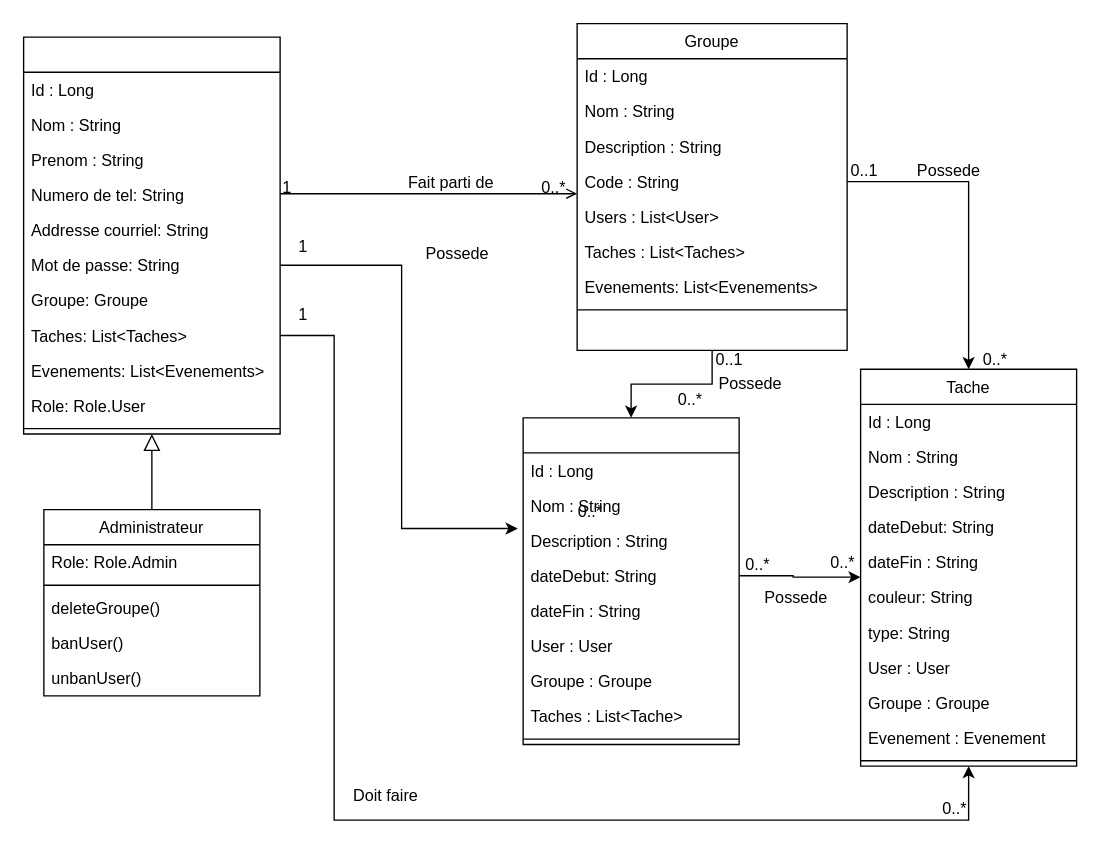
This 1100x855 diagram has some shape labels left out. The shapes that lost their labels are listed below. From the top down, each one's box as (x1, y1, x2, y2) in pixels, then its label:
(22, 36, 280, 434): Utilisateur
(522, 416, 739, 745): Evenement
